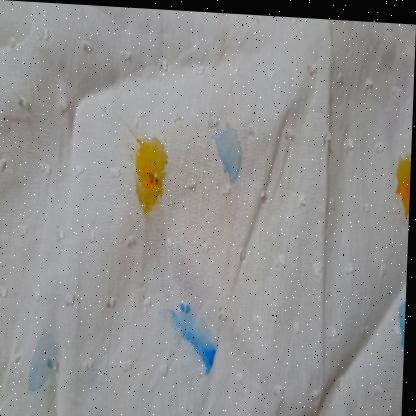spot: (208, 120, 246, 188), (136, 134, 169, 201), (28, 329, 56, 399), (392, 148, 412, 219), (134, 169, 160, 216), (169, 301, 196, 343), (394, 291, 408, 354), (202, 330, 220, 375), (191, 314, 209, 357)
